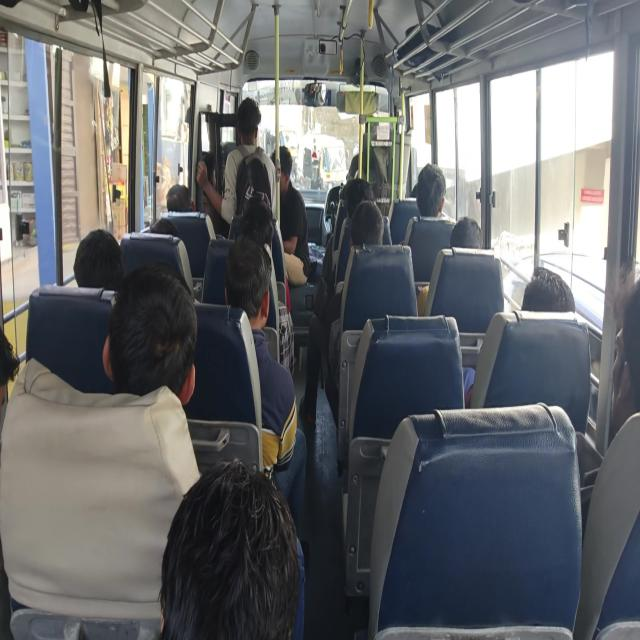person: (0, 262, 202, 638), (158, 457, 304, 639), (224, 233, 307, 534), (573, 267, 639, 638), (298, 200, 384, 426), (463, 266, 576, 406), (102, 262, 197, 406), (195, 96, 277, 235), (417, 216, 483, 315), (271, 145, 310, 286), (609, 274, 639, 437), (73, 228, 125, 290), (520, 266, 576, 312), (415, 162, 449, 218), (0, 325, 19, 406), (449, 216, 483, 249), (165, 183, 195, 212)
